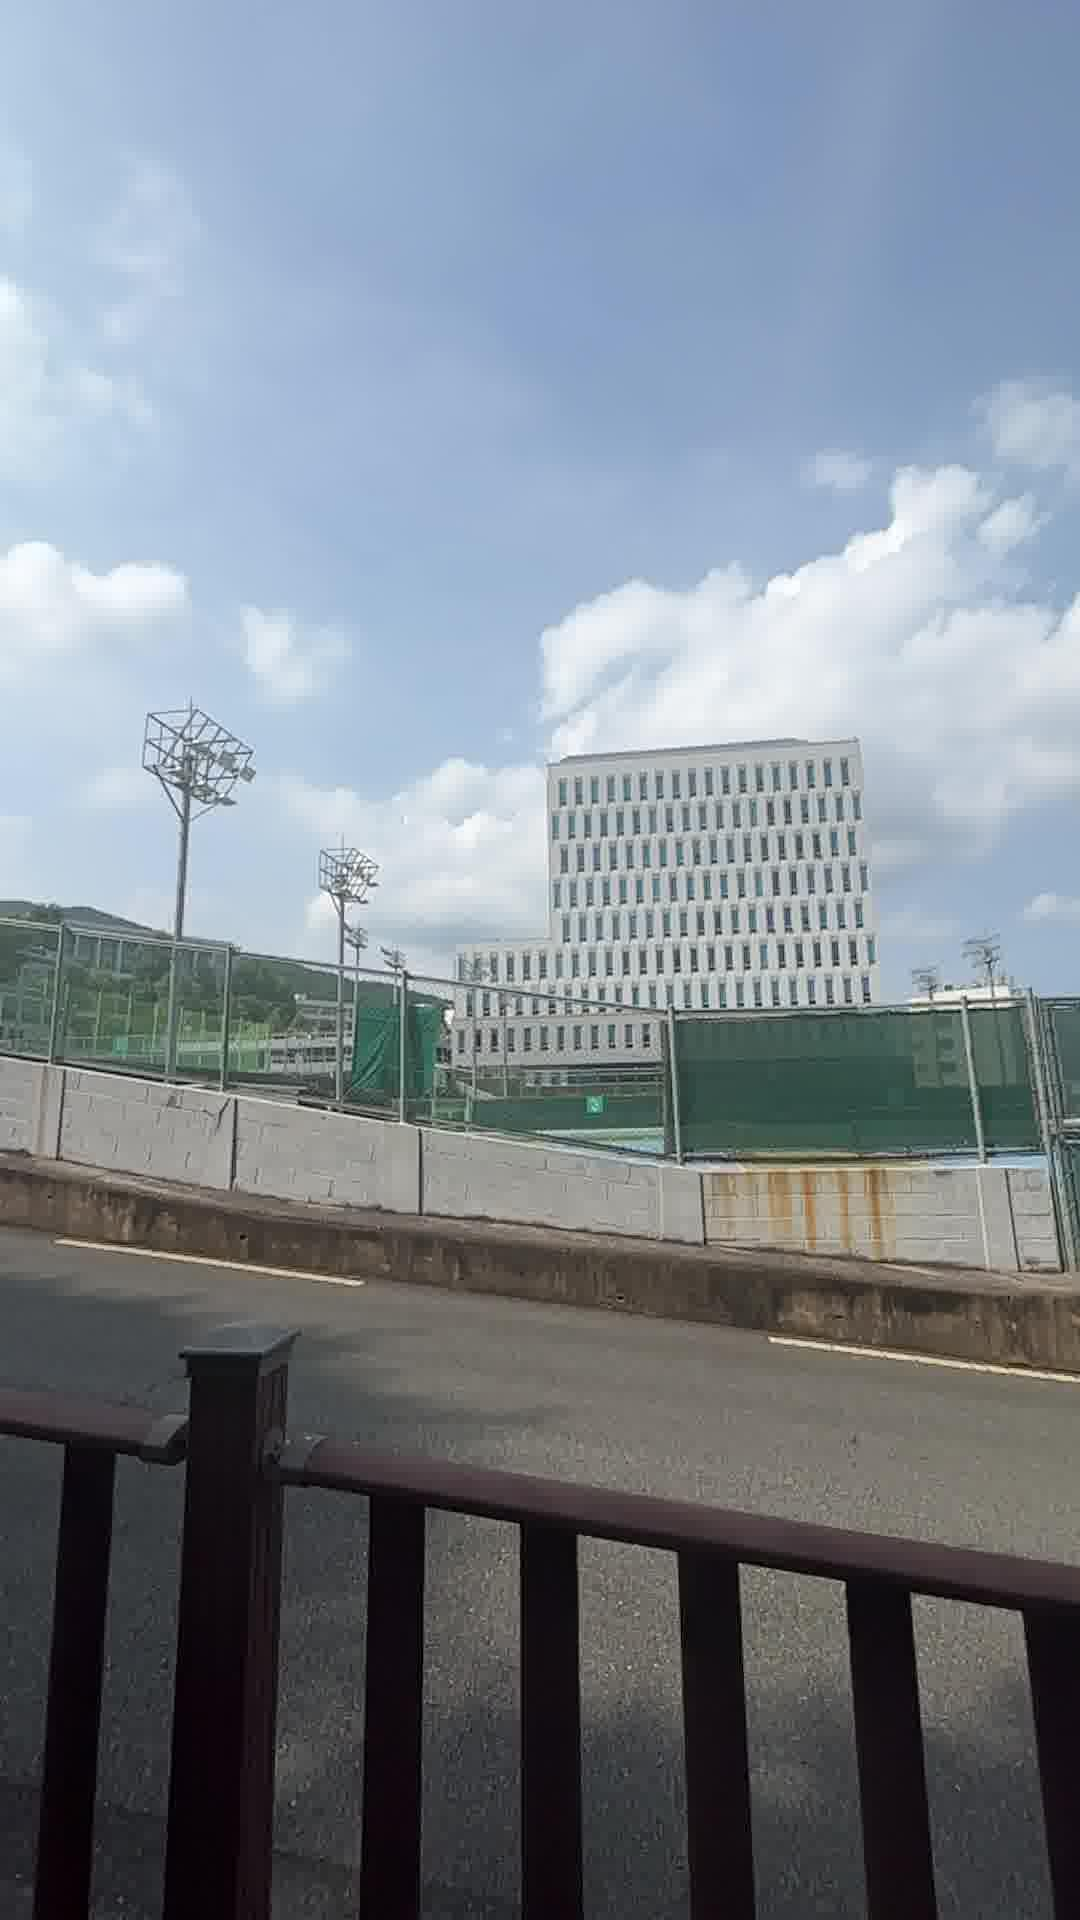building: (463, 731, 873, 1021)
